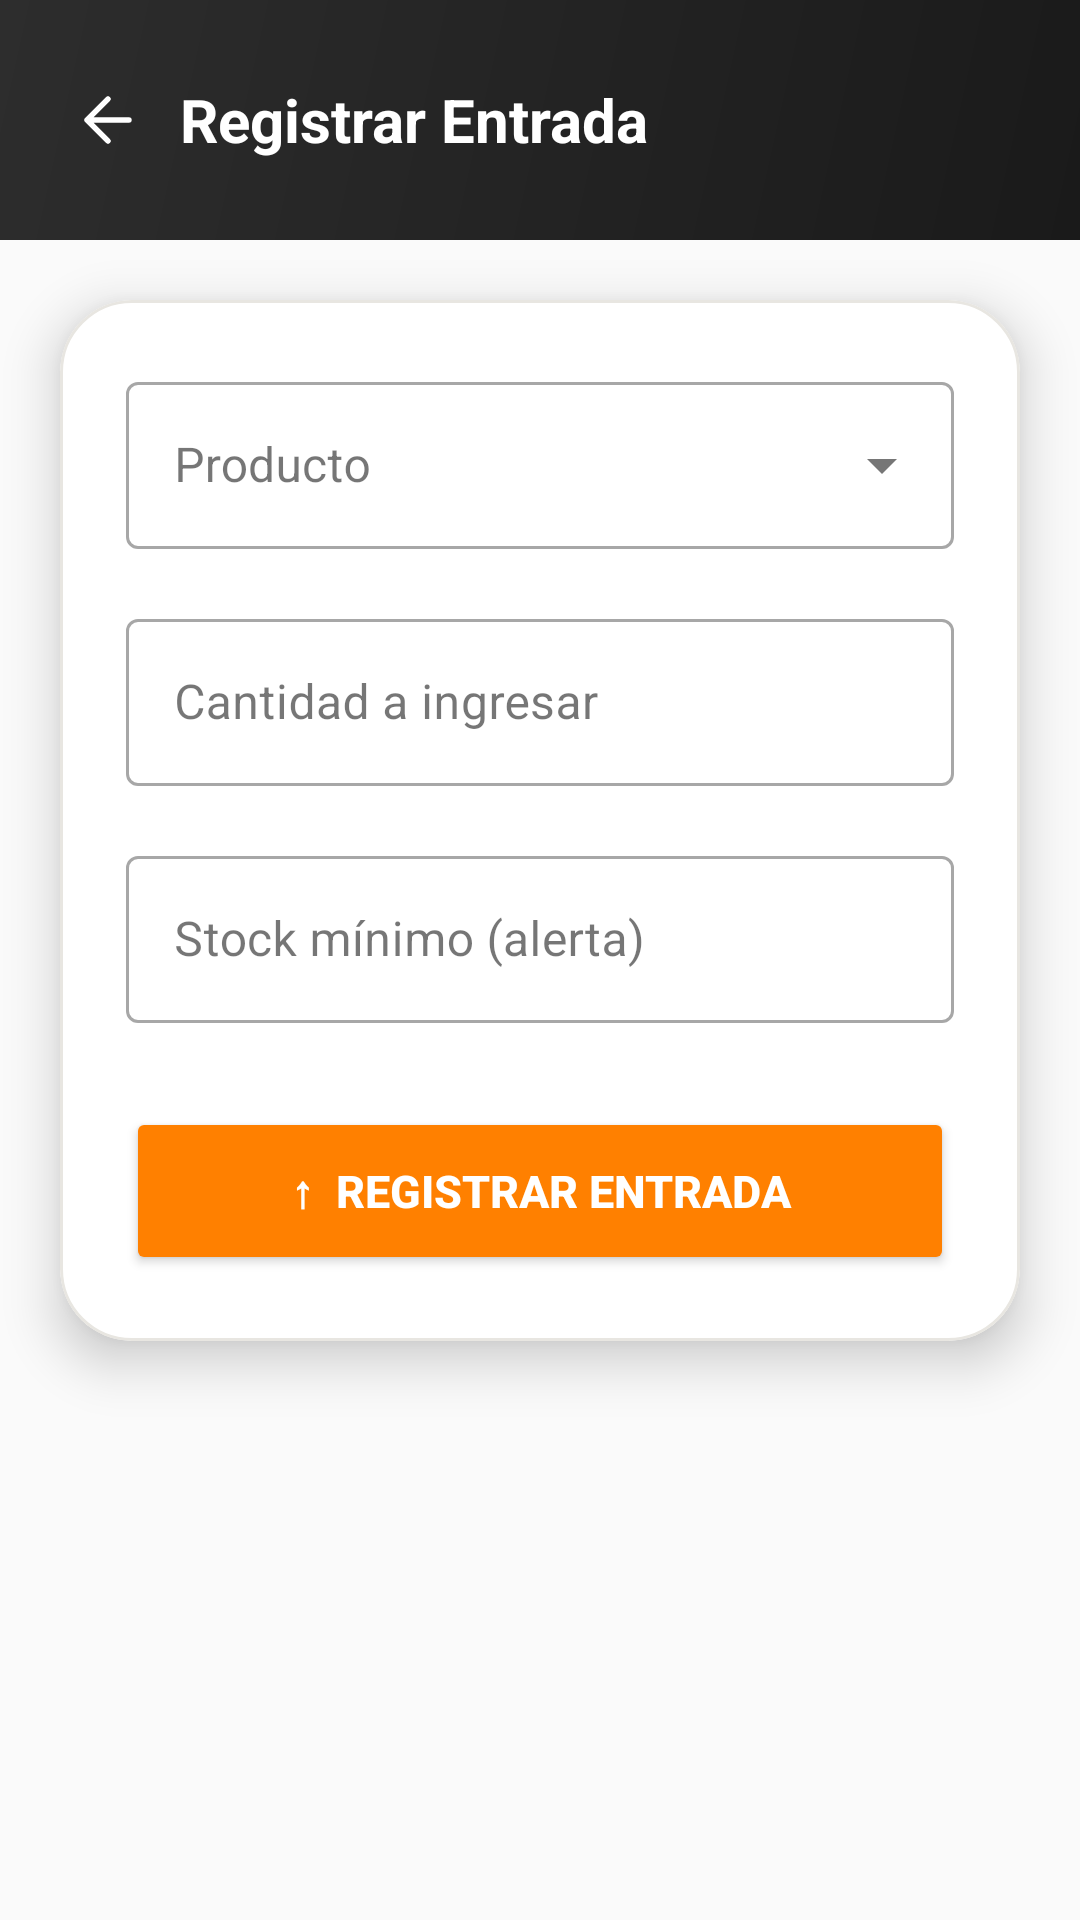

Point at icon controls on the screen. Image size 1080×1920, points as (x,y).
Volver: (108,120)
